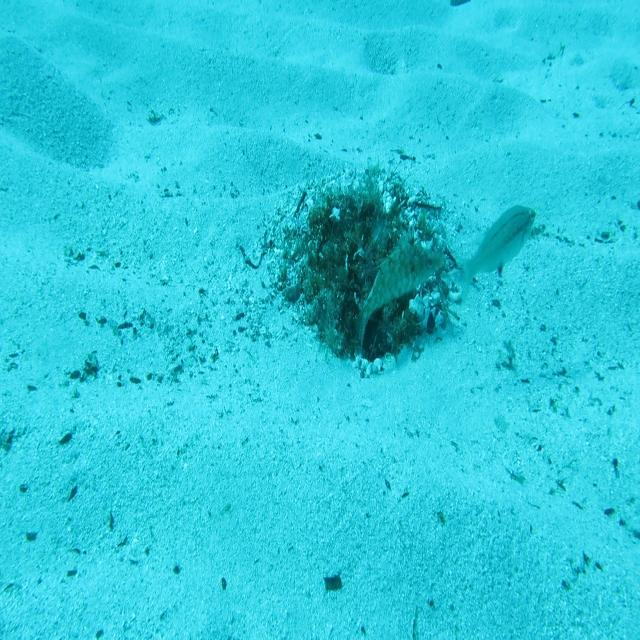MAF: (352, 226, 444, 348)
core_nest: (333, 203, 375, 256)
female: (449, 202, 538, 307)
nest: (255, 147, 473, 385)
vegetation: (323, 572, 344, 594), (449, 0, 470, 9)
